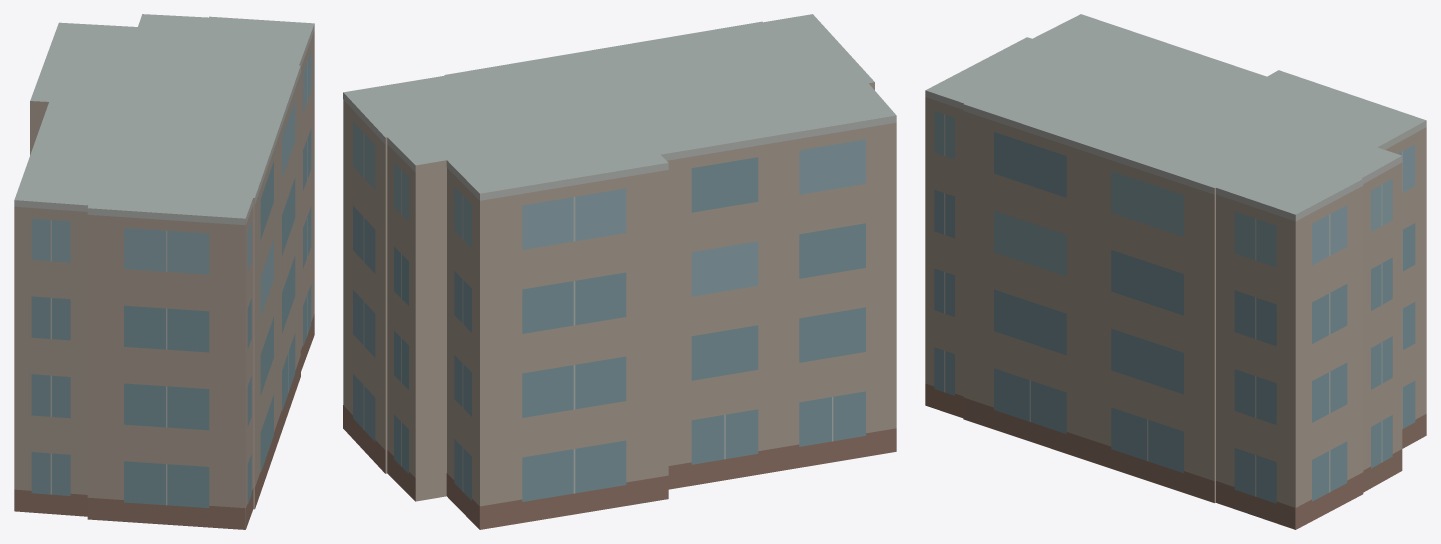
File: survey-upis-32670081.glb
3 renders of one model, left to right at view 1: azimuth 30°, elevation 25°; view 2: azimuth 150°, elevation 25°; view 3: azimuth 270°, elevation 25°, orthographic. The views are drawn at different scales.
Visible parts, largest first — view 1: survey-upis-32670081.tmp; view 2: survey-upis-32670081.tmp; view 3: survey-upis-32670081.tmp.
Part boxes in pixels (x1,y1,x2,y2): survey-upis-32670081.tmp: [14, 14, 314, 529]; survey-upis-32670081.tmp: [343, 14, 896, 529]; survey-upis-32670081.tmp: [925, 14, 1426, 529].
Size of the model in its own units: 15.86 by 11.6 by 16.74.
